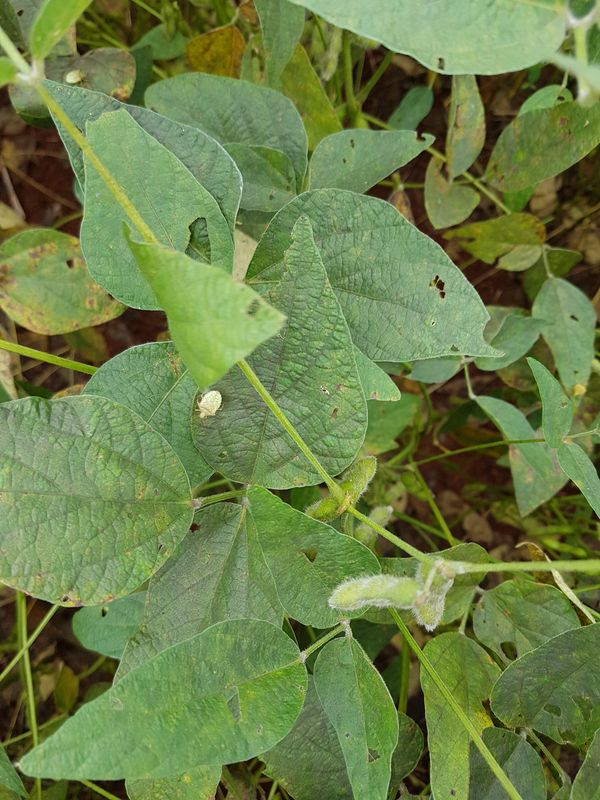Euschistus_heros_ninfa: (187, 383, 228, 423), (60, 66, 90, 90), (569, 379, 591, 401)
